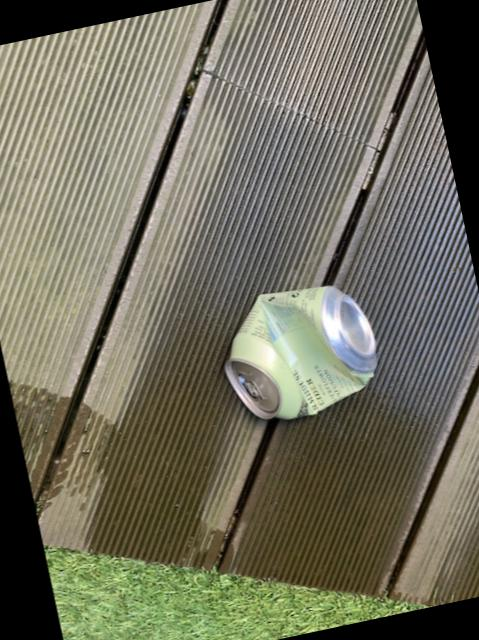metal: (222, 284, 374, 417)
